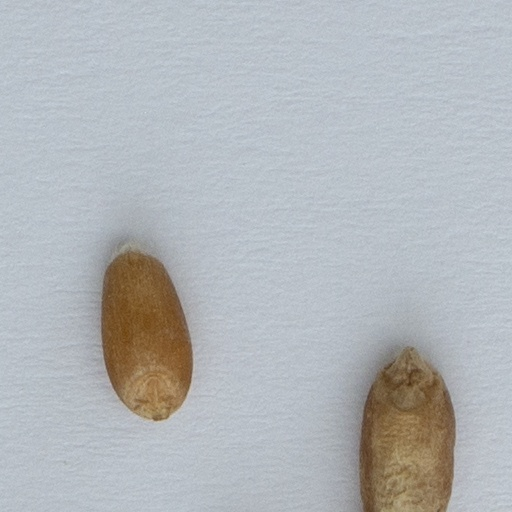Wheat-grain-poly: (97, 244, 194, 425)
